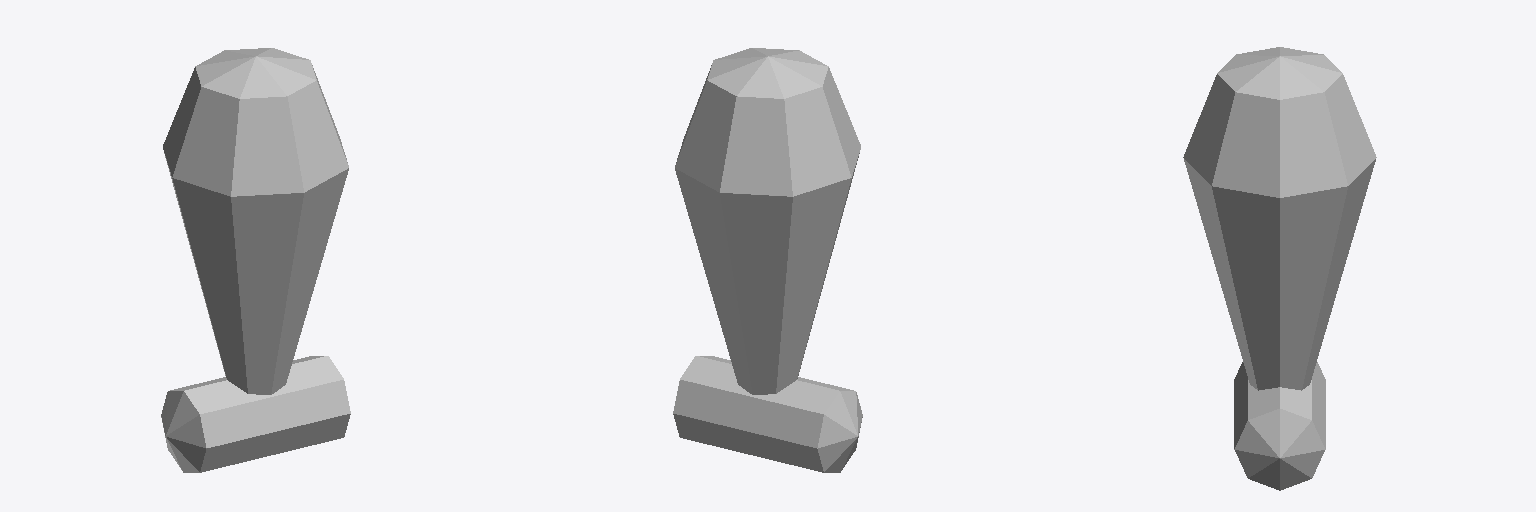
Rendered from icecream_machine_handle_vanilla.obj.
3 views of the same model, side by side, from view 1: azimuth 30°, elevation 25°; view 2: azimuth 150°, elevation 25°; view 3: azimuth 270°, elevation 25° (orthographic).
Visible parts, largest first — view 1: icecream_machine_handle_vanilla_Cube.394; view 2: icecream_machine_handle_vanilla_Cube.394; view 3: icecream_machine_handle_vanilla_Cube.394.
Boxes of the visible parts, box(x1,y1,x2,y2) form: icecream_machine_handle_vanilla_Cube.394: box(161, 48, 350, 472); icecream_machine_handle_vanilla_Cube.394: box(673, 48, 862, 472); icecream_machine_handle_vanilla_Cube.394: box(1183, 47, 1376, 490).
Bounding box in the file's own units: 0.2507 × 0.5287 × 0.2322.